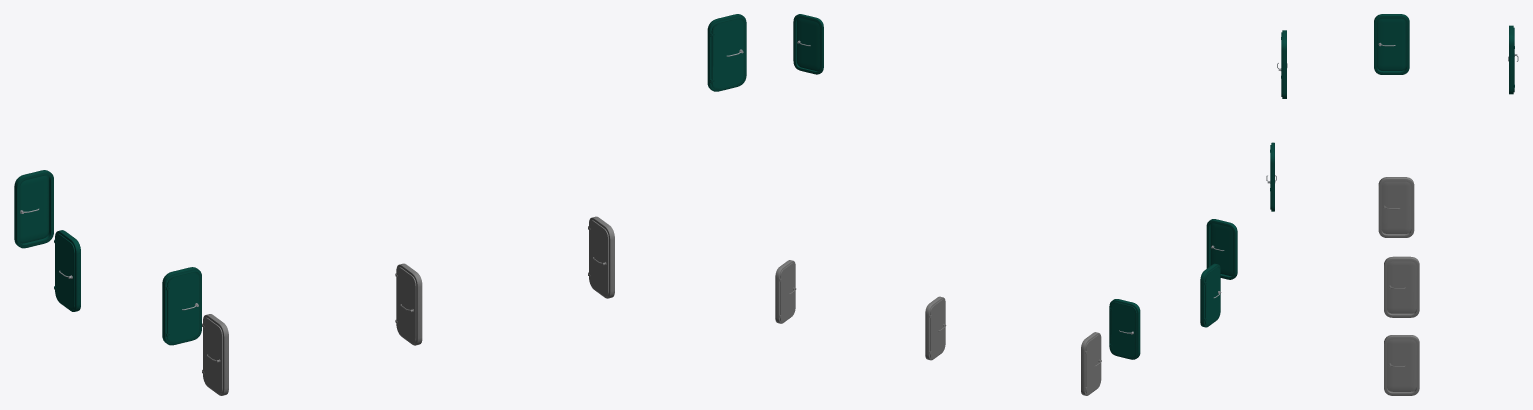
The model's file is Doors_Ship.fbx.
3 renders of one model, left to right at view 1: azimuth 30°, elevation 25°; view 2: azimuth 150°, elevation 25°; view 3: azimuth 270°, elevation 25°, orthographic. The views are drawn at different scales.
Visible parts, largest first — view 1: DoorPrincipal_002, DoorPrincipal_001, DoorPrincipal_004, DoorPrincipal_006, DoorPrincipal_003, DoorPrincipal_005, DoorPrincipal_007, FrameDoor_004, FrameDoor_002, FrameDoor_006, FrameDoor_001, FrameDoor_003; view 2: DoorPrincipal_004, DoorPrincipal_001, DoorPrincipal_002, DoorPrincipal_003, DoorPrincipal_006, DoorPrincipal_007, DoorPrincipal_005, FrameDoor_002, FrameDoor_001, FrameDoor_004, FrameDoor_006, FrameDoor_005; view 3: DoorPrincipal_005, DoorPrincipal_003, DoorPrincipal_006, DoorPrincipal_007, FrameDoor_005, FrameDoor_006, FrameDoor_007, FrameDoor_003, FrameDoor_004, FrameDoor_002, FrameDoor_001.
Part boxes in pixels (box(x1,y1,x2,y2)): DoorPrincipal_002: box(166, 271, 200, 343); DoorPrincipal_001: box(710, 17, 744, 89); DoorPrincipal_004: box(20, 175, 48, 243); DoorPrincipal_006: box(395, 267, 416, 343); DoorPrincipal_003: box(54, 233, 74, 309); DoorPrincipal_005: box(202, 317, 222, 393); DoorPrincipal_007: box(588, 220, 608, 296); FrameDoor_004: box(14, 170, 53, 248); FrameDoor_002: box(162, 267, 201, 345); FrameDoor_006: box(395, 263, 422, 345); FrameDoor_001: box(707, 14, 746, 91); FrameDoor_003: box(54, 230, 80, 311); DoorPrincipal_004: box(1109, 302, 1136, 358); DoorPrincipal_001: box(797, 17, 819, 71); DoorPrincipal_002: box(1210, 223, 1232, 275); DoorPrincipal_003: box(1204, 266, 1220, 325); DoorPrincipal_006: box(929, 299, 945, 358); DoorPrincipal_007: box(779, 263, 795, 322); DoorPrincipal_005: box(1085, 335, 1100, 394); FrameDoor_002: box(1206, 219, 1237, 279); FrameDoor_001: box(793, 14, 823, 74); FrameDoor_004: box(1109, 299, 1140, 359); FrameDoor_006: box(925, 296, 945, 360); FrameDoor_005: box(1081, 332, 1101, 395); DoorPrincipal_005: box(1381, 181, 1411, 233); DoorPrincipal_003: box(1377, 18, 1406, 70); DoorPrincipal_006: box(1387, 261, 1416, 313); DoorPrincipal_007: box(1387, 339, 1416, 391); FrameDoor_005: box(1378, 177, 1414, 237); FrameDoor_006: box(1384, 256, 1419, 317); FrameDoor_007: box(1384, 335, 1419, 395); FrameDoor_003: box(1374, 14, 1409, 74); FrameDoor_004: box(1509, 25, 1514, 94); FrameDoor_002: box(1281, 30, 1286, 98); FrameDoor_001: box(1270, 142, 1274, 211).
Size of the model in its own units: 16.81 by 8.41 by 7.21.
2 materials, 1 textured.
